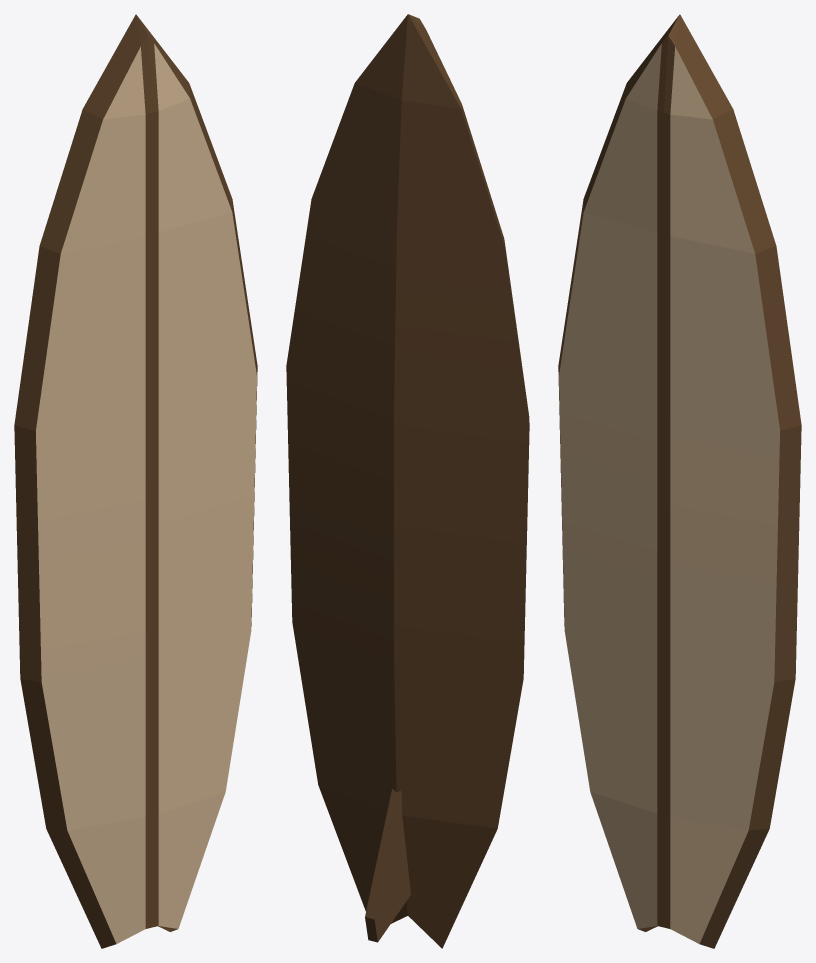
Rendered from beach_surf.fbx.
3 renders of one model, left to right at view 1: azimuth 30°, elevation 25°; view 2: azimuth 150°, elevation 25°; view 3: azimuth 330°, elevation 25°, orthographic.
Parts seen in each view (by area): view 1: beach_surf; view 2: beach_surf; view 3: beach_surf.
Boxes of the visible parts, x1,y1,x2,y2 form: beach_surf: [14, 14, 257, 948]; beach_surf: [286, 14, 529, 948]; beach_surf: [558, 14, 801, 948].
Size of the model in its own units: 54.91 by 200 by 21.26.
